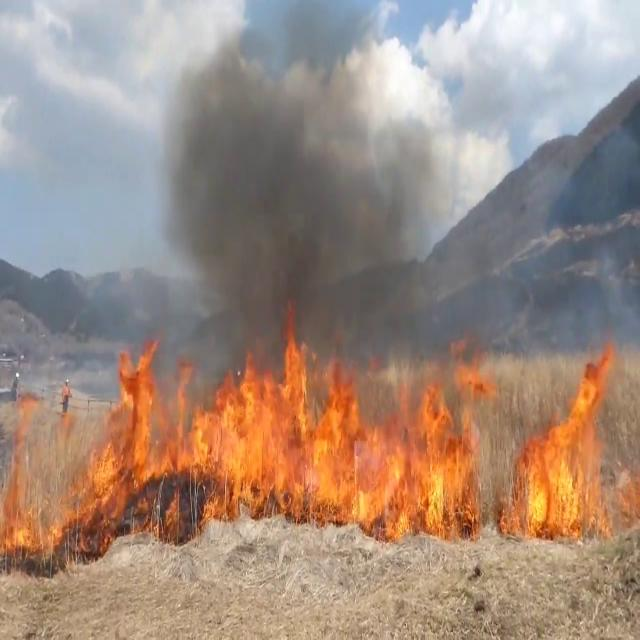Fire: (79, 322, 485, 530), (504, 335, 618, 539)
Smoke: (137, 5, 466, 376)
